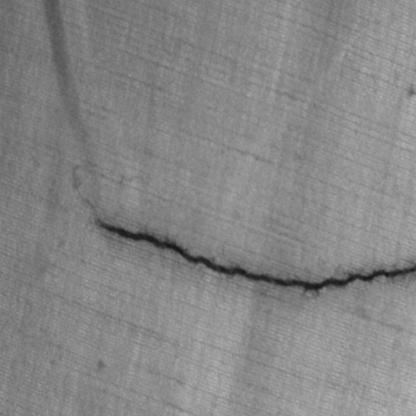objects: (90, 209, 415, 298)
